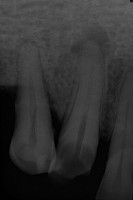Furcation Involvement: (70, 23, 112, 57)
